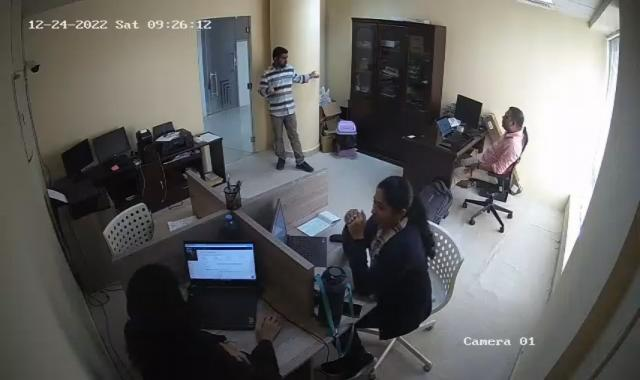no_hairnet: (130, 266, 178, 318), (369, 176, 411, 227), (498, 102, 524, 132), (269, 43, 291, 69)
